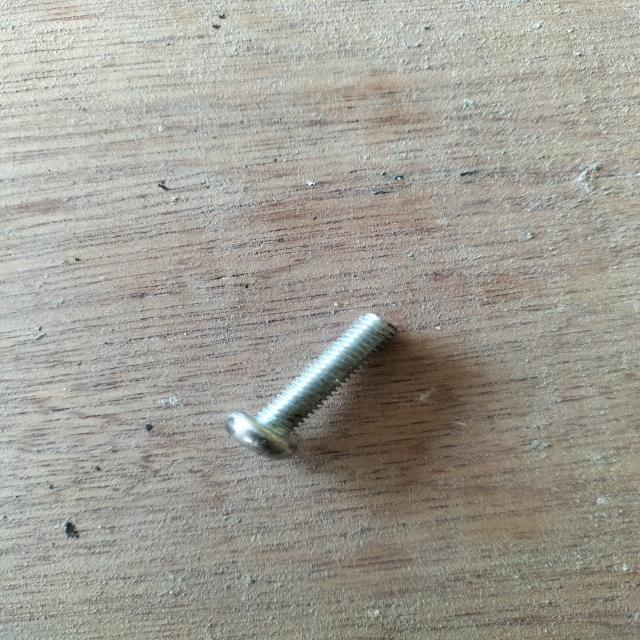bolt: (226, 312, 394, 460)
